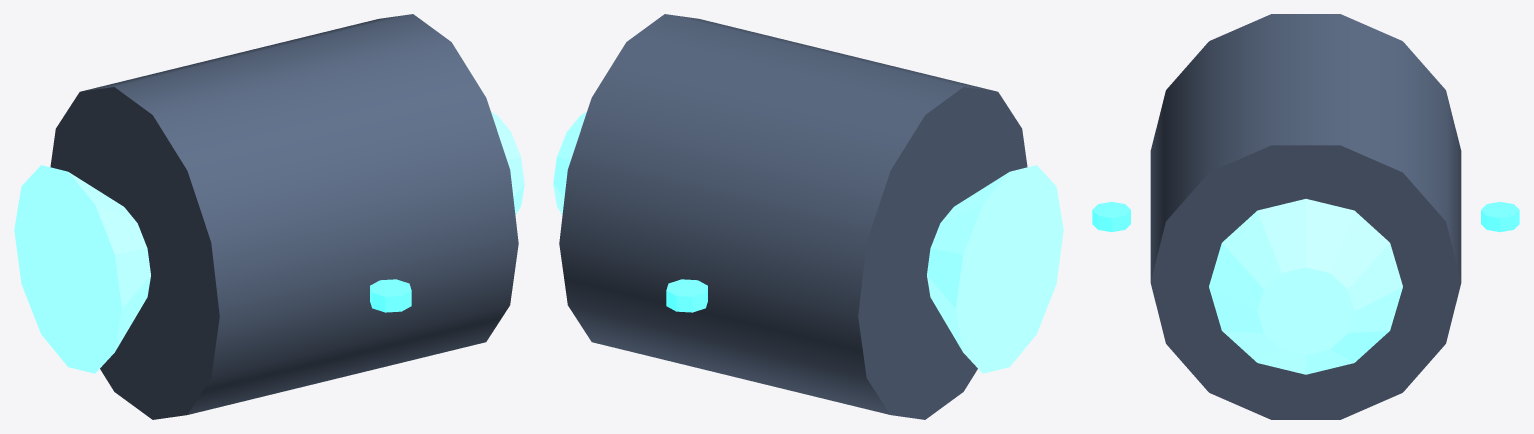
Rendered from mod_propulsor_lat.fbx.
3 views of the same model, side by side, from view 1: azimuth 30°, elevation 25°; view 2: azimuth 150°, elevation 25°; view 3: azimuth 270°, elevation 25° (orthographic). The views are drawn at different scales.
Parts seen in each view (by area): view 1: Propulsor_lateral, Propulsor_lateral_Neon, Propulsor_lateral_Conectores; view 2: Propulsor_lateral, Propulsor_lateral_Neon, Propulsor_lateral_Conectores; view 3: Propulsor_lateral, Propulsor_lateral_Neon, Propulsor_lateral_Conectores.
Part boxes in pixels (x1=…): Propulsor_lateral: x1=50, y1=14, x2=518, y2=419; Propulsor_lateral_Neon: x1=14, y1=111, x2=524, y2=373; Propulsor_lateral_Conectores: x1=370, y1=279, x2=411, y2=312; Propulsor_lateral: x1=559, y1=14, x2=1027, y2=419; Propulsor_lateral_Neon: x1=553, y1=111, x2=1063, y2=373; Propulsor_lateral_Conectores: x1=666, y1=279, x2=707, y2=312; Propulsor_lateral: x1=1150, y1=14, x2=1461, y2=419; Propulsor_lateral_Neon: x1=1209, y1=199, x2=1402, y2=374; Propulsor_lateral_Conectores: x1=1092, y1=201, x2=1519, y2=232.
Size of the model in its own units: 0.644 by 0.4368 by 0.616.
